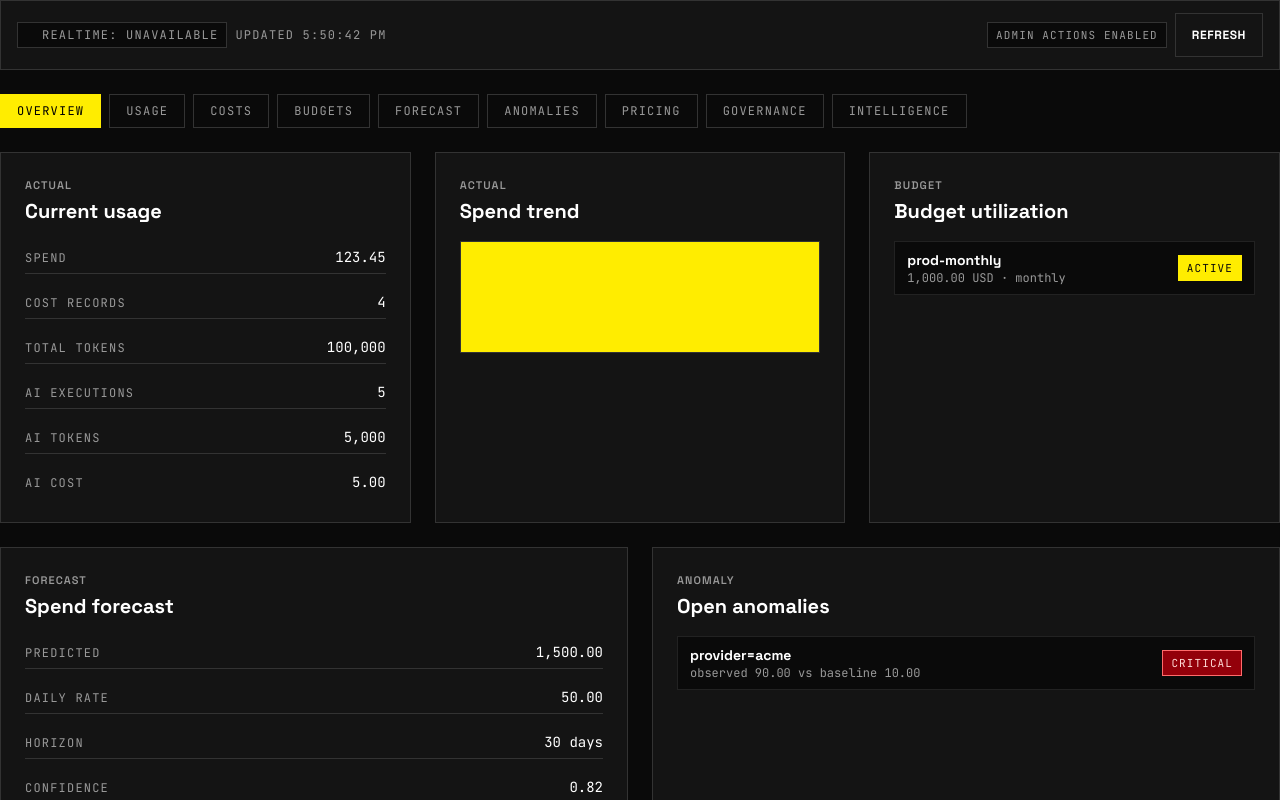
Test: FinopsWorkspace (C2 governance & intelligence) › shows pricing admin actions with billing:admin
Expected: the text "Admin actions enabled" is shown, [987, 22, 1167, 48]
Click the tab "Pricing": (651, 111) [605, 94, 698, 128]
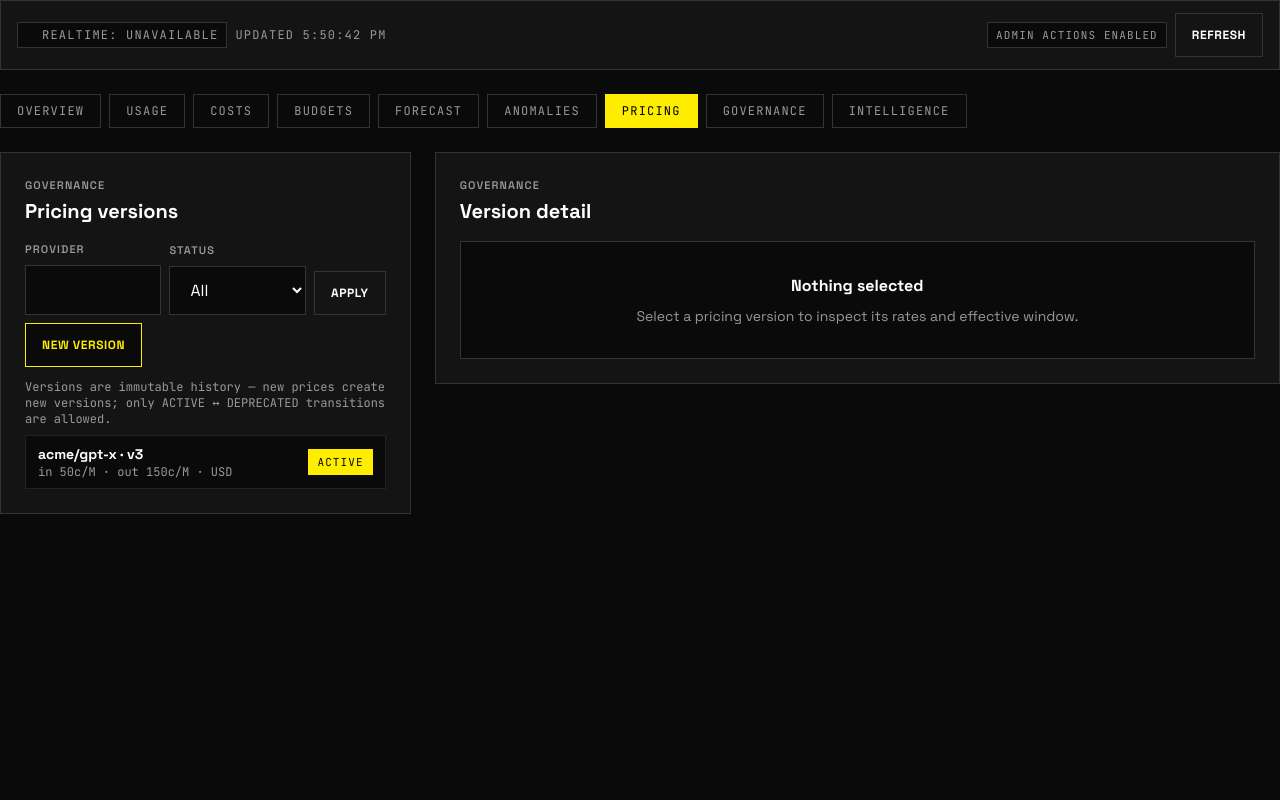
Now the text "New version" is shown, box [42, 337, 125, 353]
